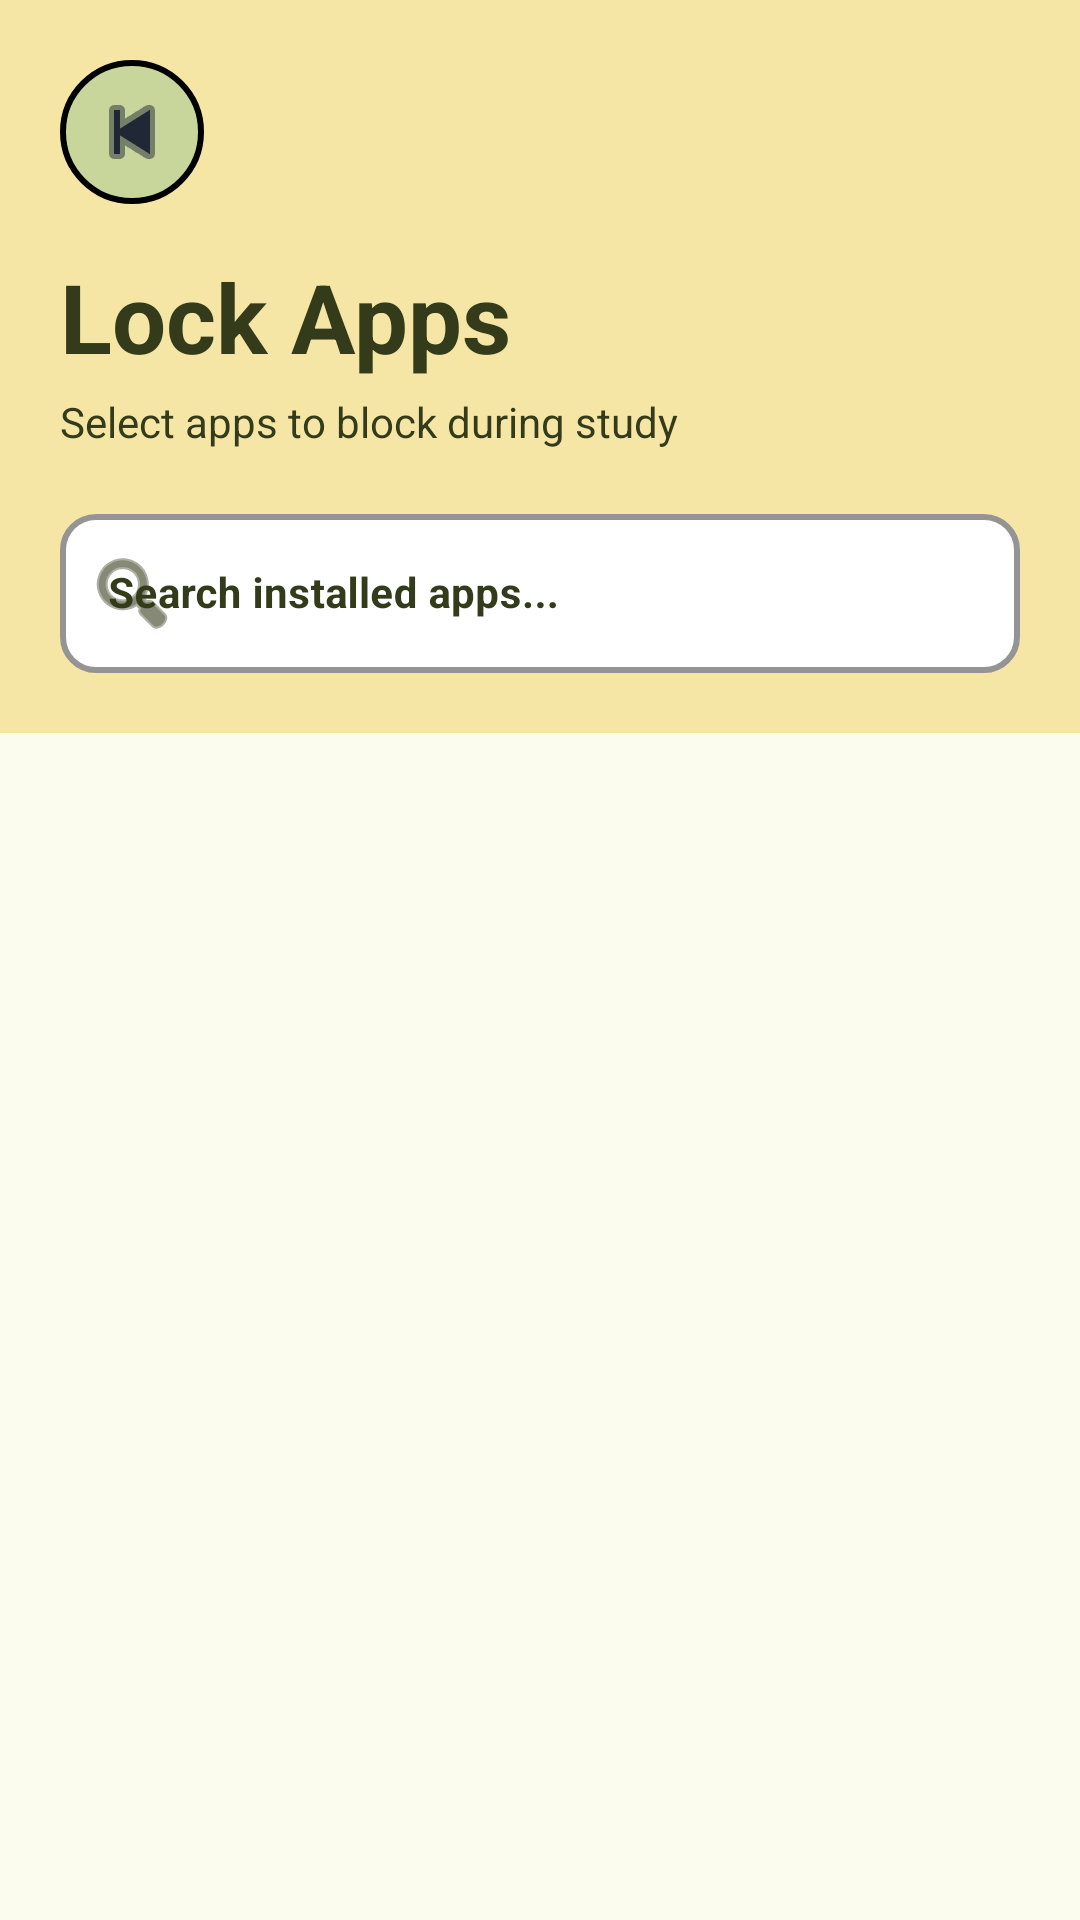

Icons on this 1080 x 1920 Android screen, each with its box as (x1, y1, x2, y2):
Back: (60, 60, 204, 204)
